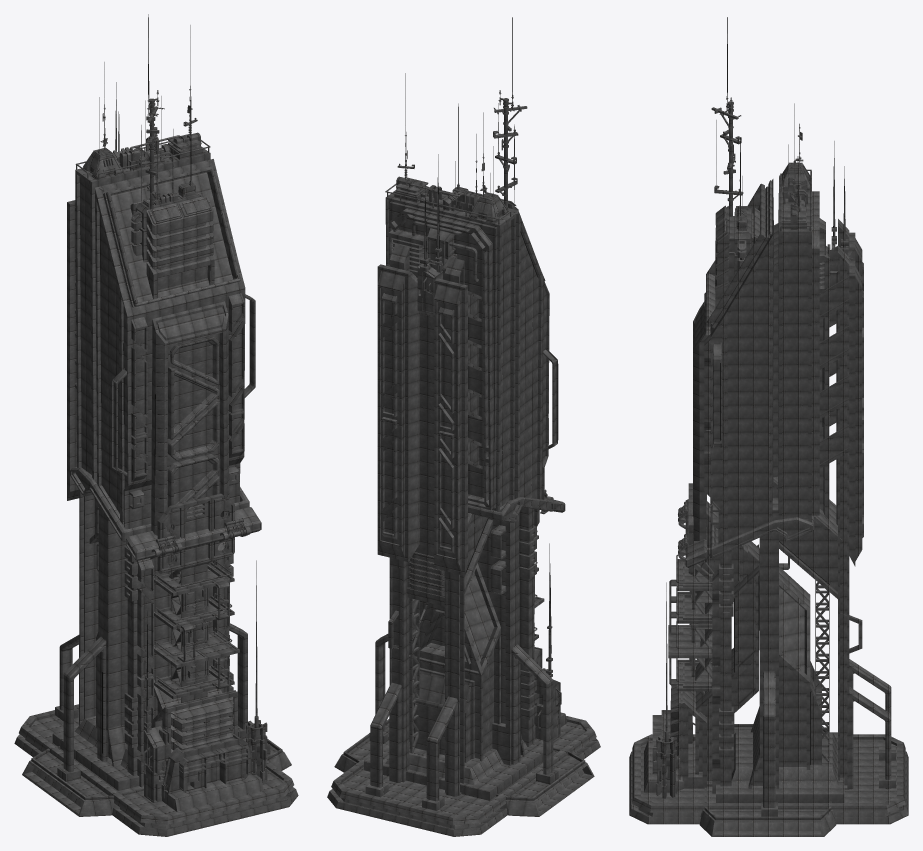
The model's file is torre_comunicaciones.obj.
3 views of the same model, side by side, from view 1: azimuth 30°, elevation 25°; view 2: azimuth 150°, elevation 25°; view 3: azimuth 270°, elevation 25° (orthographic). The views are drawn at different scales.
Visible parts, largest first — view 1: Torre_comunicaciones_placas_metalicas, leds_aristas_seleccionadas; view 2: Torre_comunicaciones_placas_metalicas, leds_aristas_seleccionadas; view 3: Torre_comunicaciones_placas_metalicas, leds_aristas_seleccionadas.
Boxes of the visible parts, x1,y1,x2,y2 form: Torre_comunicaciones_placas_metalicas: [14, 14, 298, 836]; leds_aristas_seleccionadas: [102, 17, 191, 753]; Torre_comunicaciones_placas_metalicas: [327, 73, 600, 836]; leds_aristas_seleccionadas: [425, 17, 558, 758]; Torre_comunicaciones_placas_metalicas: [629, 34, 908, 836]; leds_aristas_seleccionadas: [689, 17, 844, 764].
Size of the model in its own units: 23.97 by 83.76 by 27.93.
Materials: 2 (2 with a texture image).
